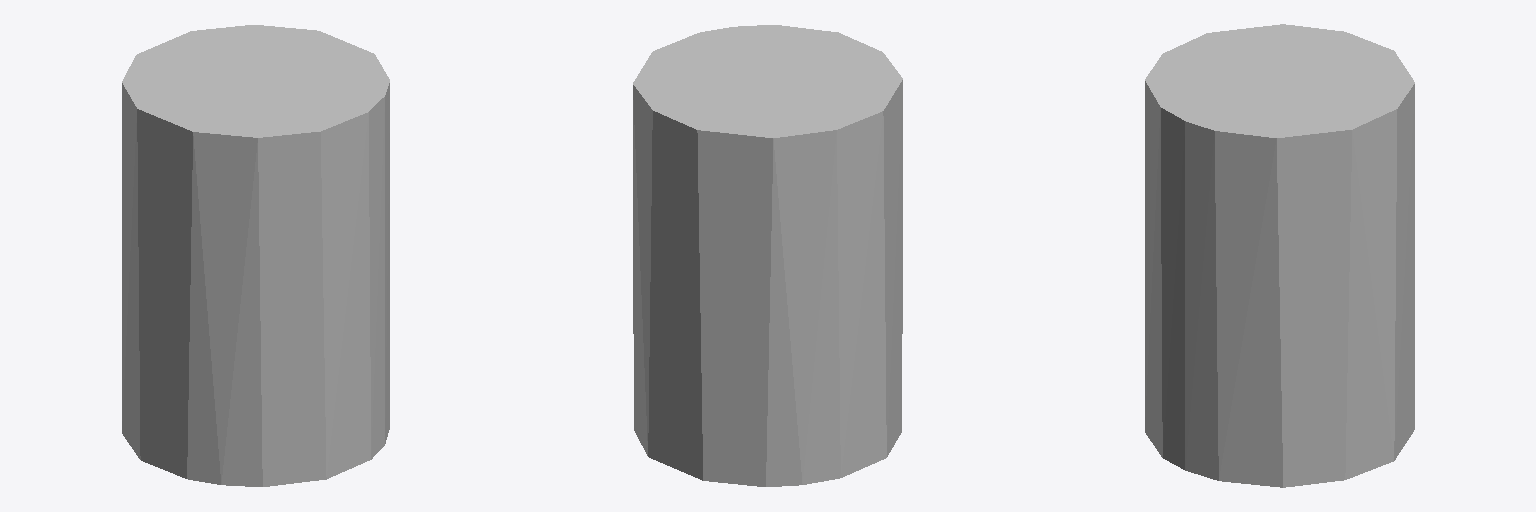
The model's file is pm_monster_collision.obj.
The picture shows the model from 3 angles: view 1: azimuth 30°, elevation 25°; view 2: azimuth 150°, elevation 25°; view 3: azimuth 270°, elevation 25°; orthographic projection.
Parts seen in each view (by area): view 1: Cylinder; view 2: Cylinder; view 3: Cylinder.
Boxes of the visible parts, <box> form: Cylinder: <box>122,25,389,486</box>; Cylinder: <box>633,25,902,486</box>; Cylinder: <box>1145,24,1414,487</box>.
Bounding box in the file's own units: 1.4 × 2 × 1.4.